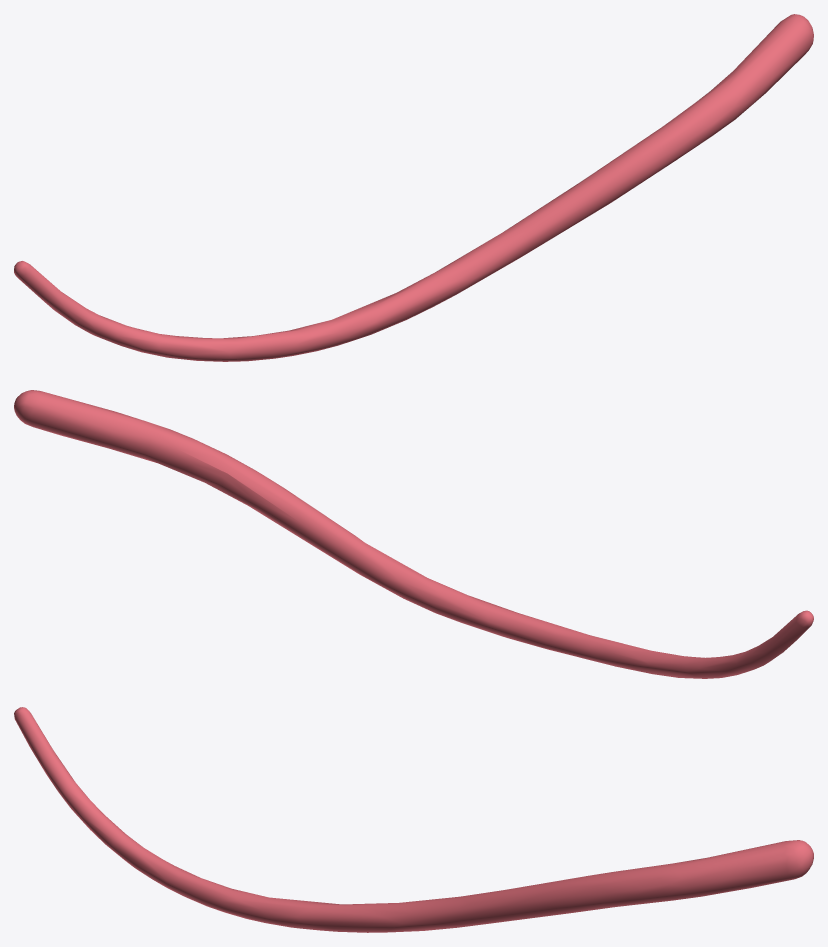
Rendered from fma23072_fj2282.glb.
The picture shows the model from 3 angles, top to bottom: view 1: azimuth 30°, elevation 25°; view 2: azimuth 150°, elevation 25°; view 3: azimuth 330°, elevation 25°; orthographic projection. The views are drawn at different scales.
Visible parts, largest first — view 1: FMA23072_FJ2282; view 2: FMA23072_FJ2282; view 3: FMA23072_FJ2282.
Part boxes in pixels (x1=…): FMA23072_FJ2282: x1=14, y1=14, x2=813, y2=361; FMA23072_FJ2282: x1=14, y1=390, x2=813, y2=678; FMA23072_FJ2282: x1=14, y1=707, x2=813, y2=932.
Size of the model in its own units: 0.0499 by 0.0104 by 0.0061.
